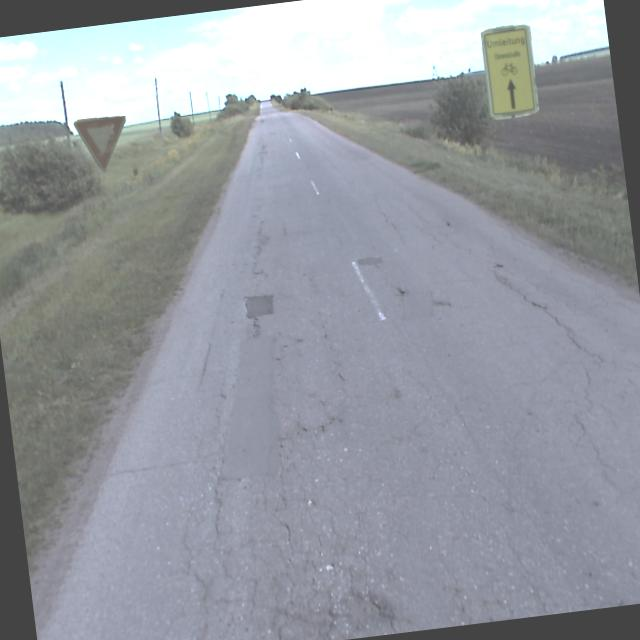road: (36, 111, 640, 640)
